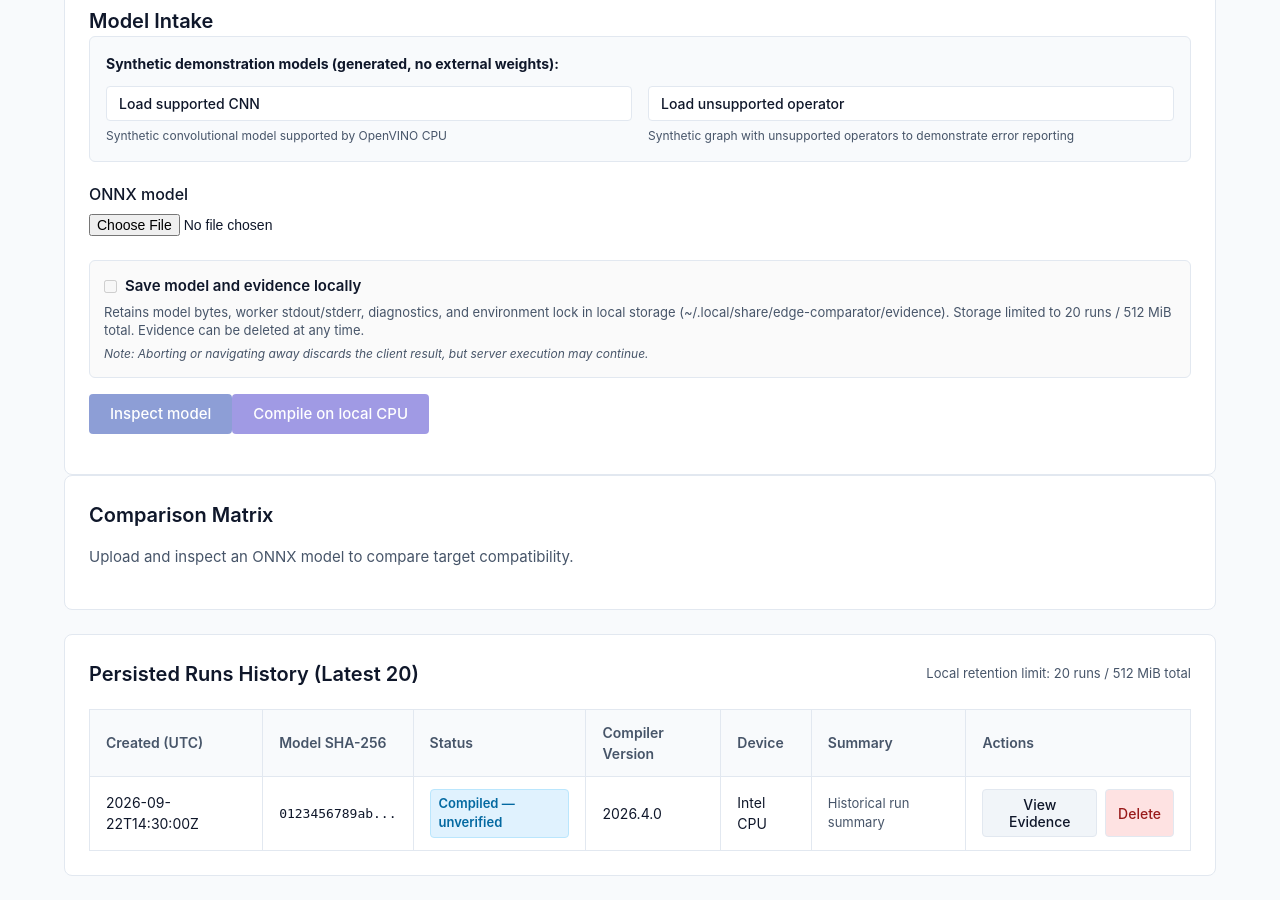
Test: App integration › handles error when deleting a run
(page scrolled)
Expected: the text "Historical run summary" is shown, [811,776,966,850]
Click the button "Delete".
click(1140, 813)  # box [1105,789,1174,837]
(page scrolled)
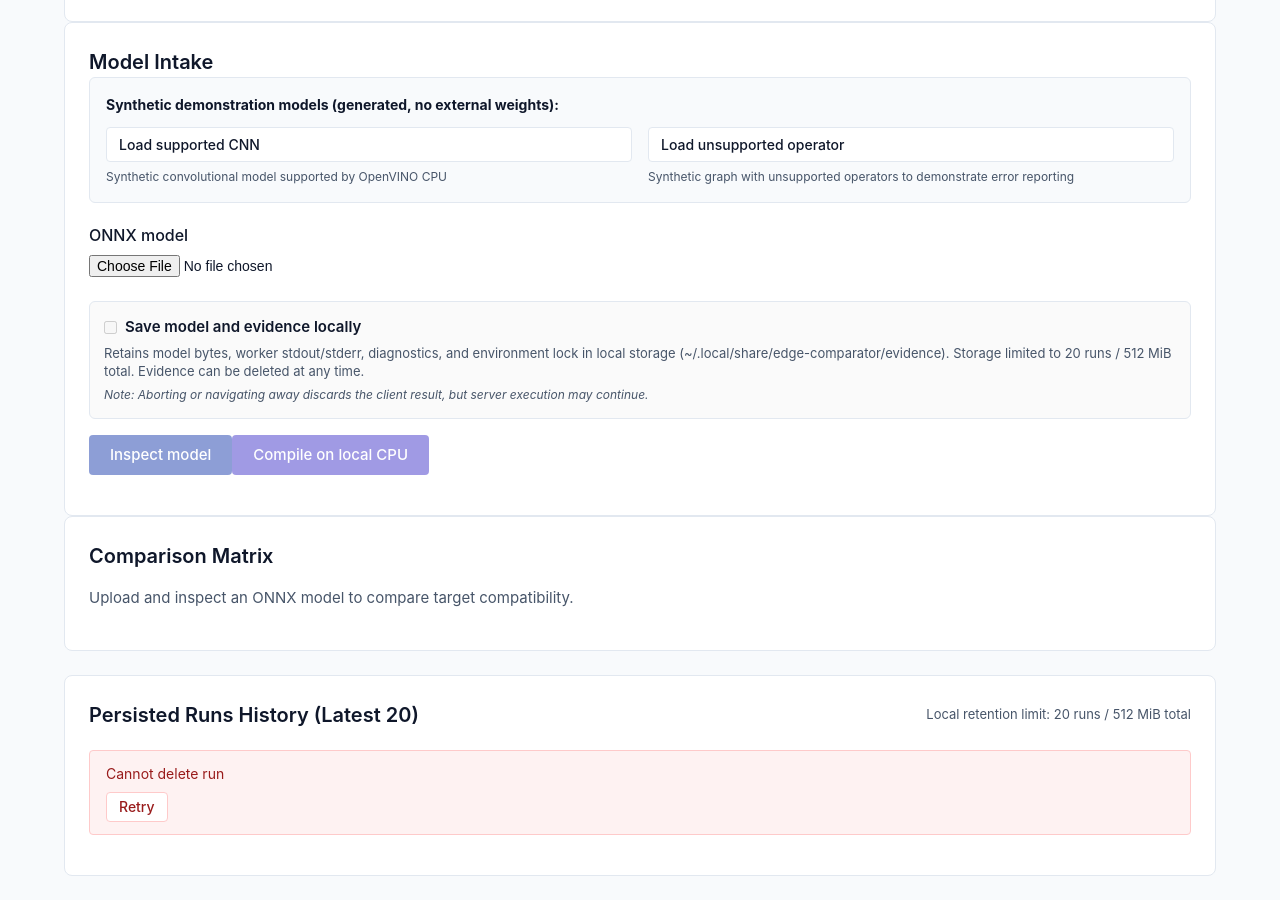
Expected: the text "Cannot delete run" is shown, [106,764,224,782]
